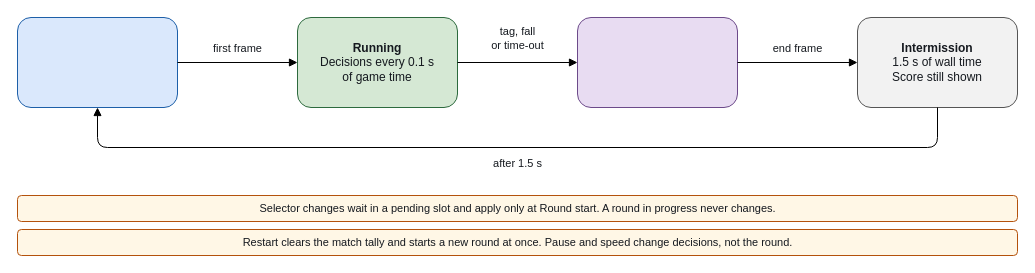
Some shapes in this 1035 by 273 pixel diagram are drawn without their labels. Each missing label, with the centre of its shape:
"Ended ended_by: tag, fall or timeout Frame shows round score" belongs at point (657, 62).
"Round start Apply pending selectors Reset the arena" belongs at point (97, 62).
